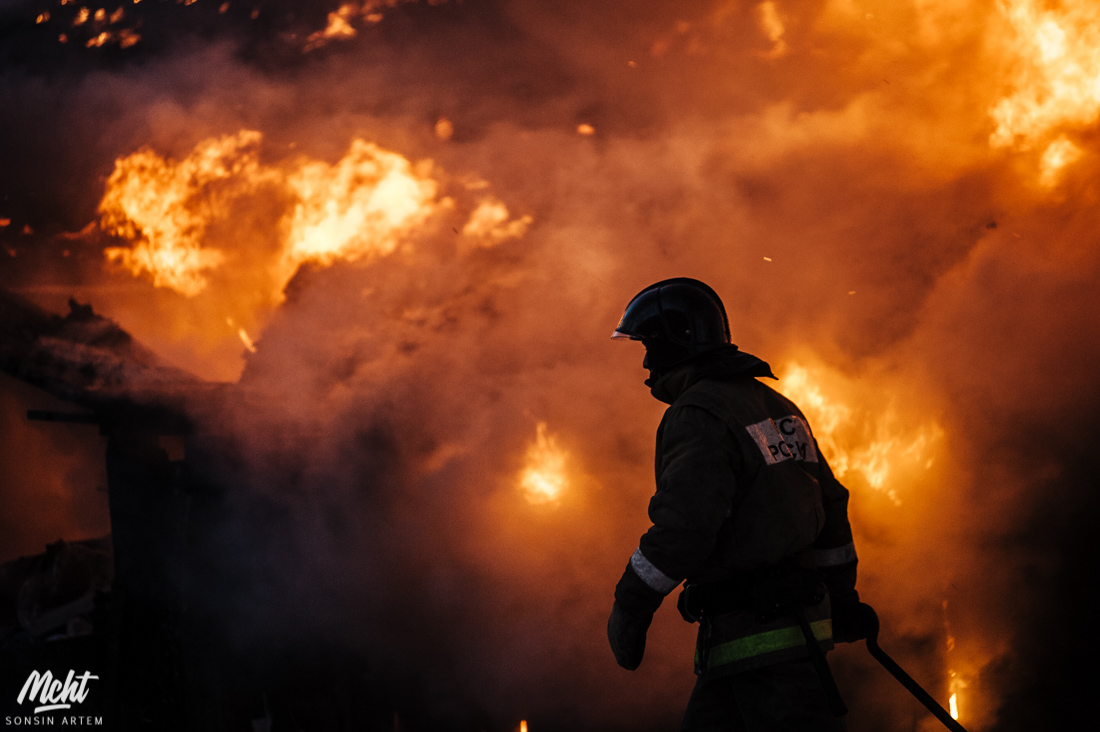fire: (75, 105, 517, 383)
